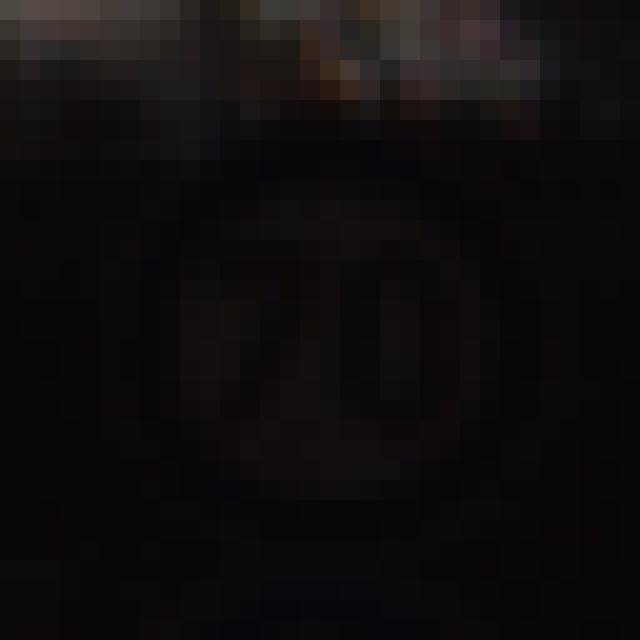SPEED LIMIT 70: (126, 159, 541, 536)
